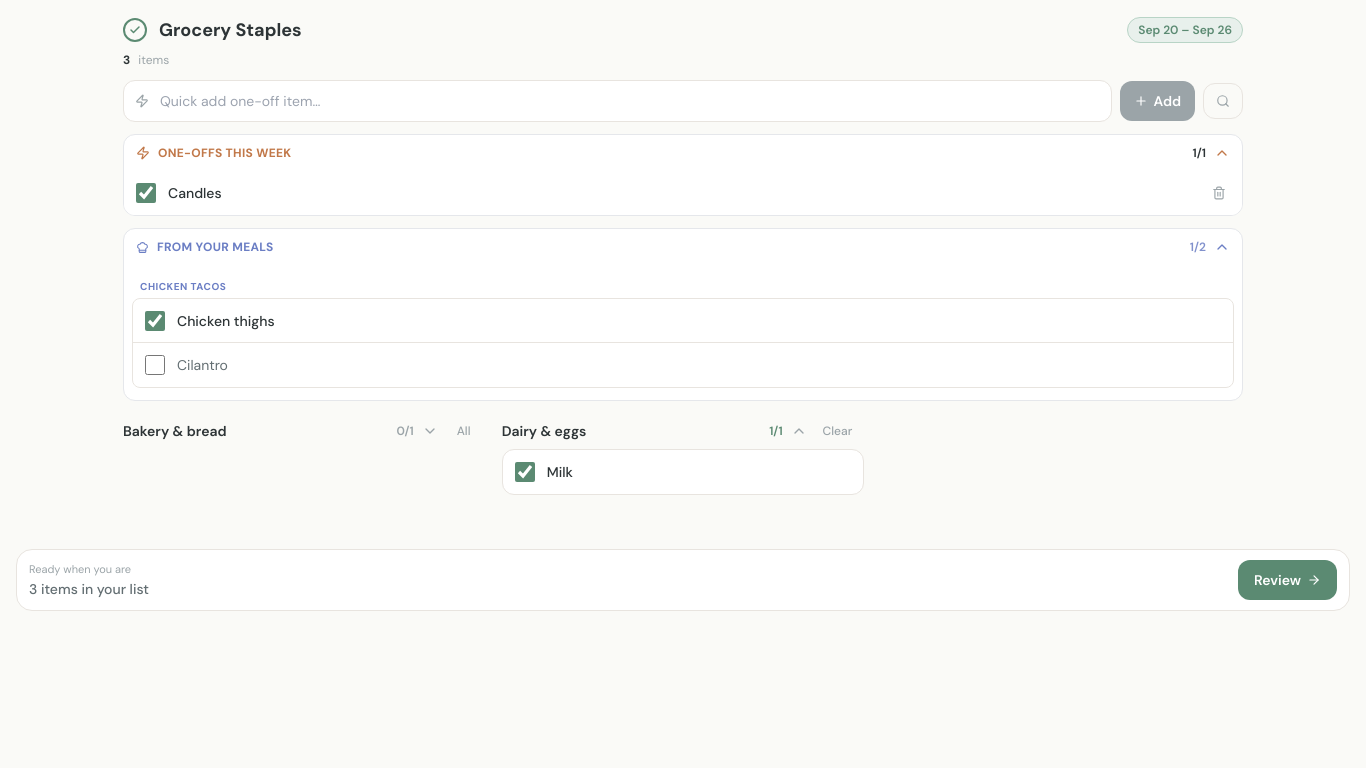
Test: StaplesScreen › clicking a collapsed category header expands it
The width and height of the screenshot is (1366, 768).
Click the heading "Bakery & bread" at (175, 431), box [123,422,226,440]
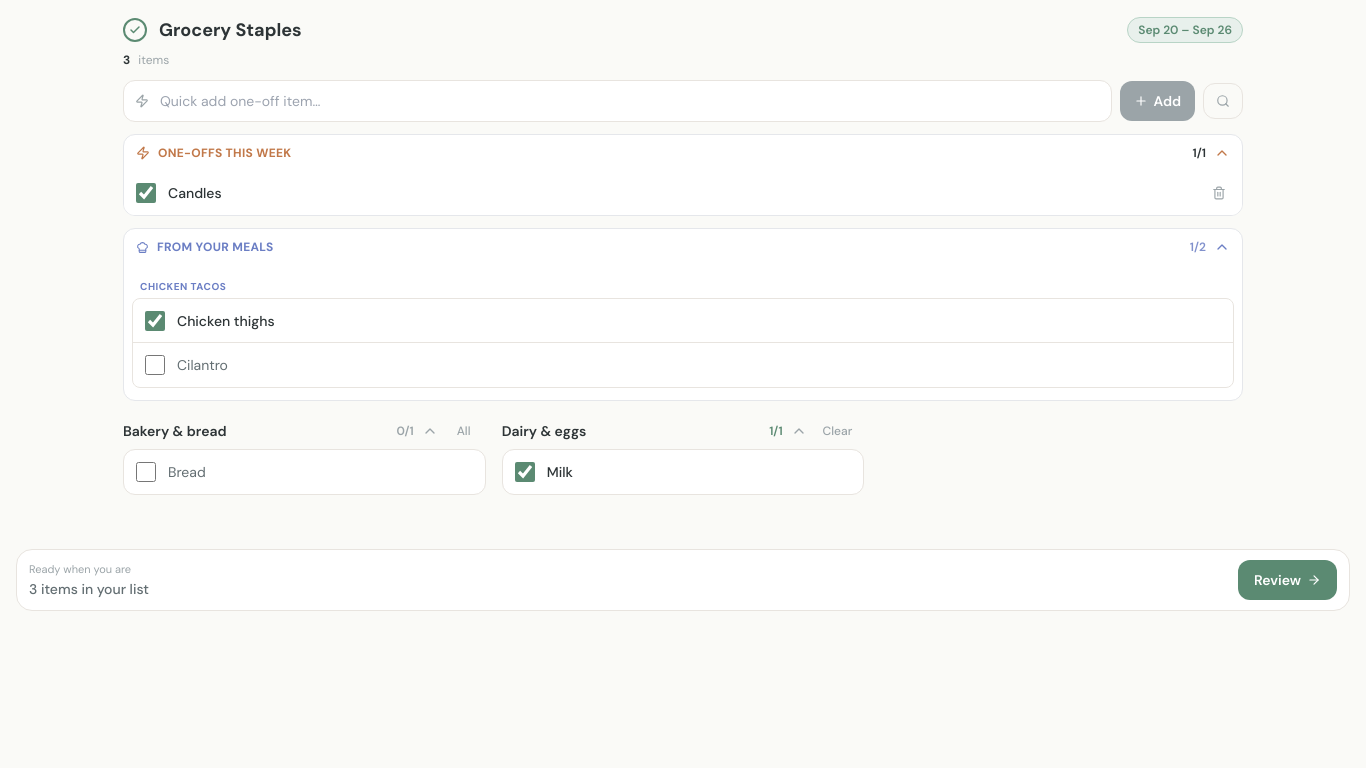
Expected: the text "Bread" is shown, [168,463,206,481]
